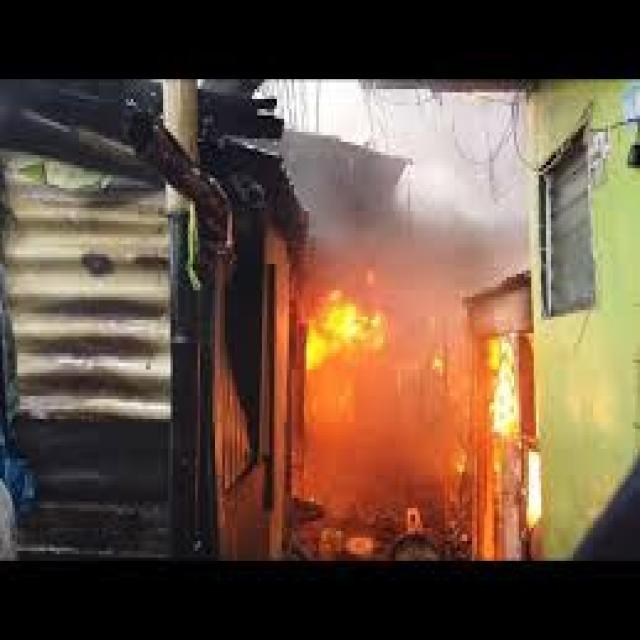Fire: (307, 290, 387, 408)
Smoke: (315, 191, 477, 502)
